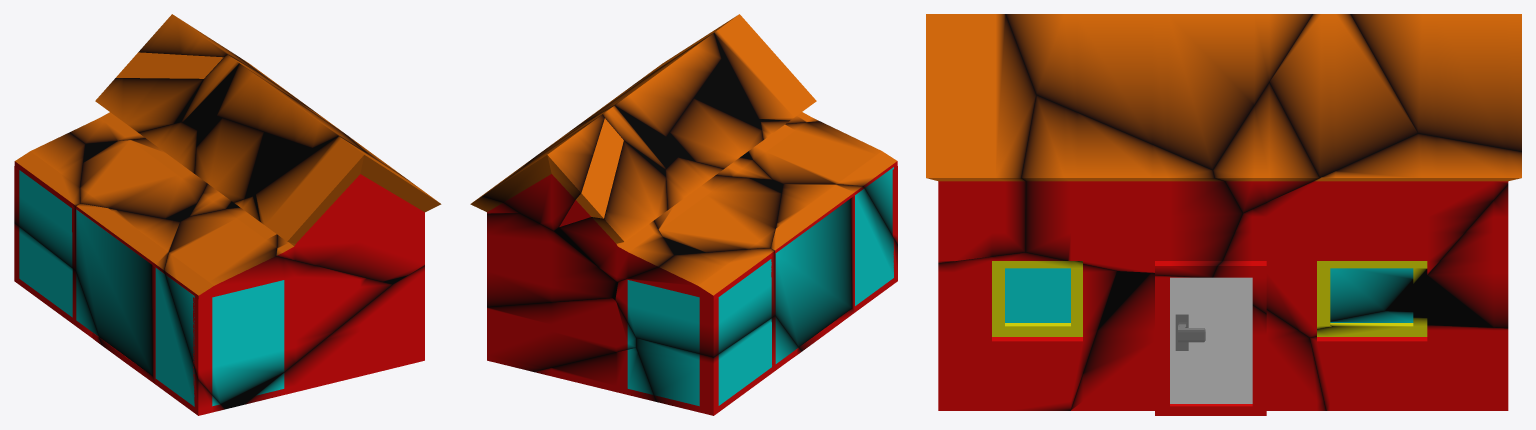
Rendered from Village_Apartment_Small_2_D.fbx.
The picture shows the model from 3 angles, left to right: view 1: azimuth 30°, elevation 25°; view 2: azimuth 150°, elevation 25°; view 3: azimuth 270°, elevation 25°; orthographic projection. The views are drawn at different scales.
Parts seen in each view (by area): view 1: Cube_fracturepart13, Cube_fracturepart18, Cube_fracturepart11_2, Cube_fracturepart19, Cube_fracturepart10, Cube_fracturepart14, Cube_fracturepart4, Cube_fracturepart3, Cube_fracturepart15, Cube_fracturepart1, Cube_fracturepart11, Cube_fracturepart7 (+3 smaller); view 2: Cube_fracturepart4, Cube_fracturepart11_2, Cube_fracturepart19, Cube_fracturepart6, Cube_fracturepart20, Cube_fracturepart1, Cube_fracturepart3, Cube_fracturepart13, Cube_fracturepart14, Cube_fracturepart17, Cube_fracturepart18, Cube_fracturepart15 (+6 smaller); view 3: Cube_fracturepart12, Cube_fracturepart15, Cube_fracturepart2, Cube_fracturepart10, Cube_fracturepart18, Cube_fracturepart7, Cube_fracturepart5, Cube_fracturepart17, Cube_fracturepart6, Cube_002, Cube_fracturepart20.
Part boxes in pixels (left/top/right/bottom): Cube_fracturepart13: left=164, top=196, right=392, bottom=409; Cube_fracturepart18: left=253, top=136, right=441, bottom=284; Cube_fracturepart11_2: left=76, top=209, right=224, bottom=415; Cube_fracturepart19: left=80, top=122, right=207, bottom=221; Cube_fracturepart10: left=245, top=265, right=424, bottom=404; Cube_fracturepart14: left=189, top=116, right=311, bottom=216; Cube_fracturepart4: left=14, top=132, right=85, bottom=267; Cube_fracturepart3: left=70, top=78, right=203, bottom=143; Cube_fracturepart15: left=216, top=63, right=365, bottom=152; Cube_fracturepart1: left=14, top=223, right=101, bottom=345; Cube_fracturepart11: left=76, top=203, right=179, bottom=273; Cube_fracturepart7: left=181, top=54, right=345, bottom=134; Cube_fracturepart4: left=615, top=248, right=774, bottom=357; Cube_fracturepart11_2: left=775, top=188, right=897, bottom=351; Cube_fracturepart19: left=654, top=157, right=783, bottom=255; Cube_fracturepart6: left=487, top=298, right=636, bottom=371; Cube_fracturepart20: left=487, top=213, right=615, bottom=307; Cube_fracturepart1: left=636, top=316, right=801, bottom=415; Cube_fracturepart3: left=554, top=140, right=673, bottom=281; Cube_fracturepart13: left=748, top=120, right=897, bottom=244; Cube_fracturepart14: left=666, top=59, right=772, bottom=179; Cube_fracturepart17: left=483, top=114, right=604, bottom=230; Cube_fracturepart18: left=633, top=14, right=819, bottom=123; Cube_fracturepart15: left=574, top=33, right=721, bottom=136; Cube_fracturepart12: left=1212, top=133, right=1521, bottom=337; Cube_fracturepart15: left=1005, top=14, right=1312, bottom=169; Cube_fracturepart2: left=1021, top=95, right=1242, bottom=277; Cube_fracturepart10: left=938, top=252, right=1116, bottom=410; Cube_fracturepart18: left=926, top=14, right=1036, bottom=263; Cube_fracturepart7: left=1213, top=14, right=1417, bottom=213; Cube_fracturepart5: left=1070, top=271, right=1326, bottom=415; Cube_fracturepart17: left=1351, top=14, right=1521, bottom=151; Cube_fracturepart6: left=1310, top=311, right=1508, bottom=410; Cube_002: left=1170, top=277, right=1252, bottom=403; Cube_fracturepart20: left=1385, top=184, right=1508, bottom=328.
Size of the model in its own units: 552 by 495 by 768.
